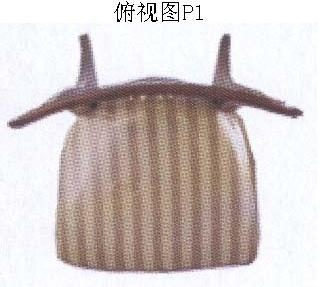obstacle: (8, 34, 301, 270)
